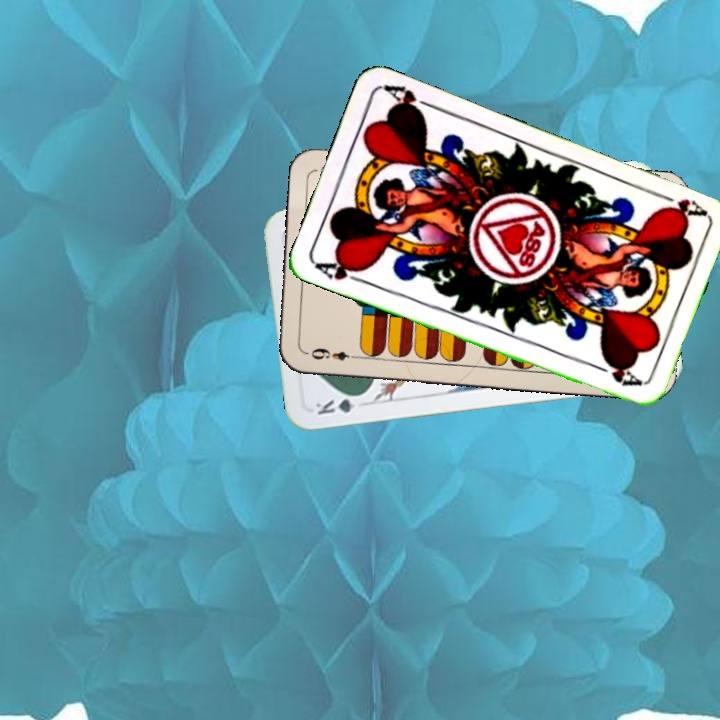E9: (301, 344, 360, 363)
GK: (311, 390, 367, 418)
HA: (311, 255, 370, 286), (650, 188, 707, 219)
